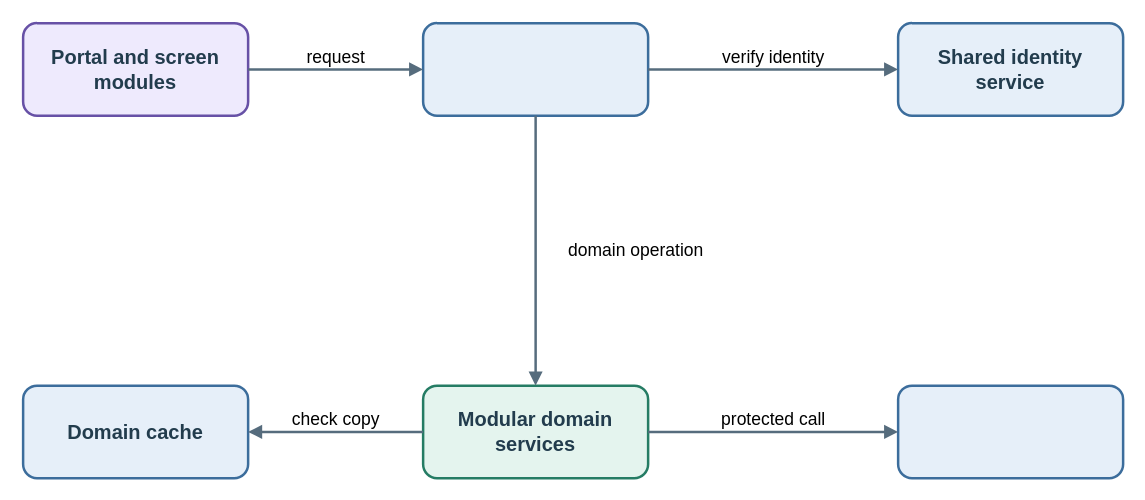
This 1145x500 diagram has some shape labels left out. Each missing label, with the centre of its shape:
Domain backend integration: [1010,431]
Shared request gateway: [535,68]
